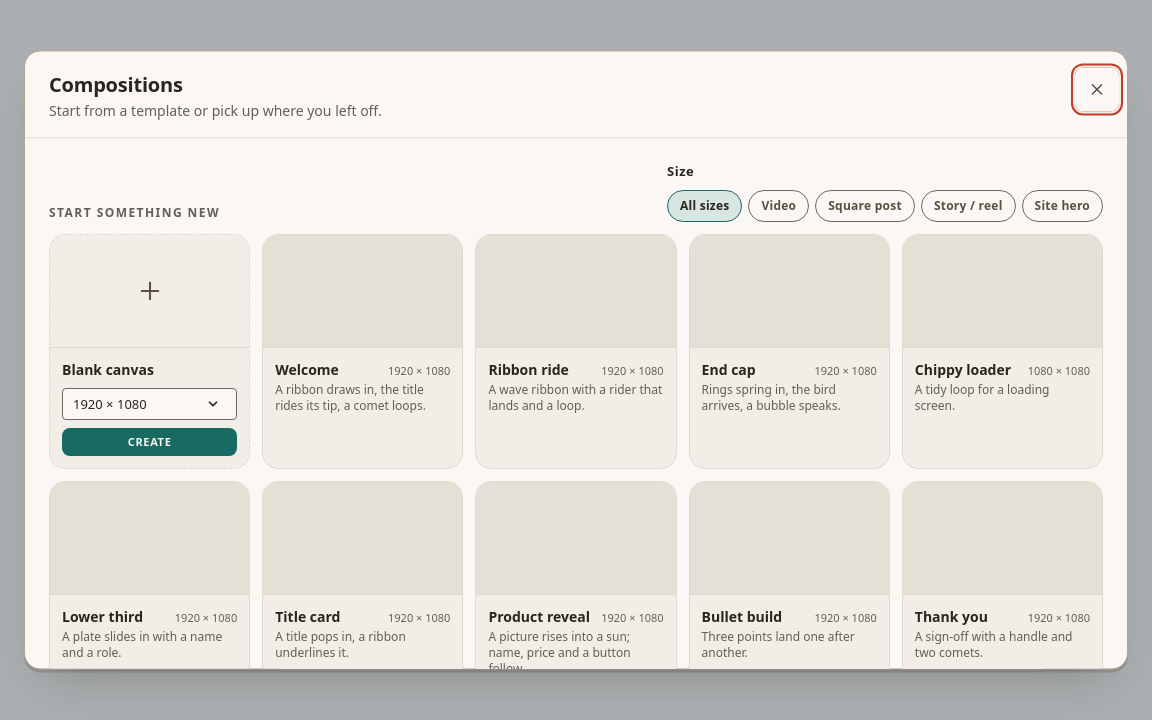
GalleryDialog templates › filters to the Story / reel frame and points the blank canvas at it
What coordinates should you click on to do the following:
click the radio button labelled "Story / reel"
I would click on:
 (968, 206)
Its box is [921,190,1016,222].
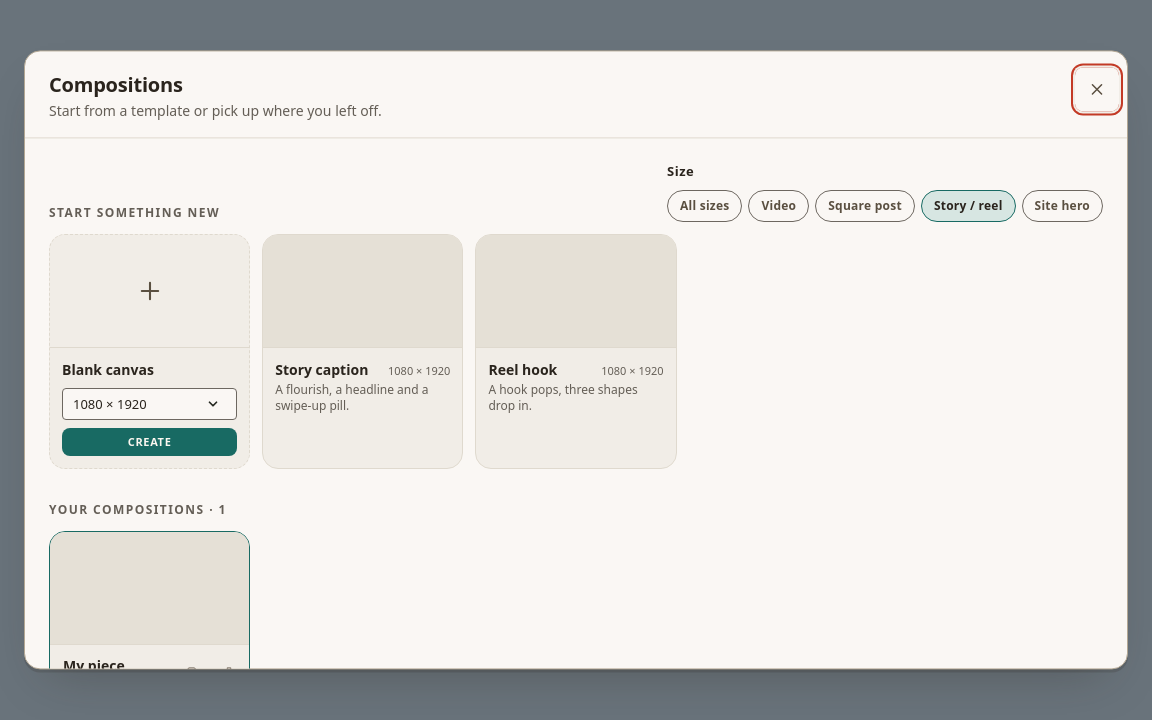
Expected: the dropdown named "Frame size" shows "1080 × 1920", [62,388,237,420]
